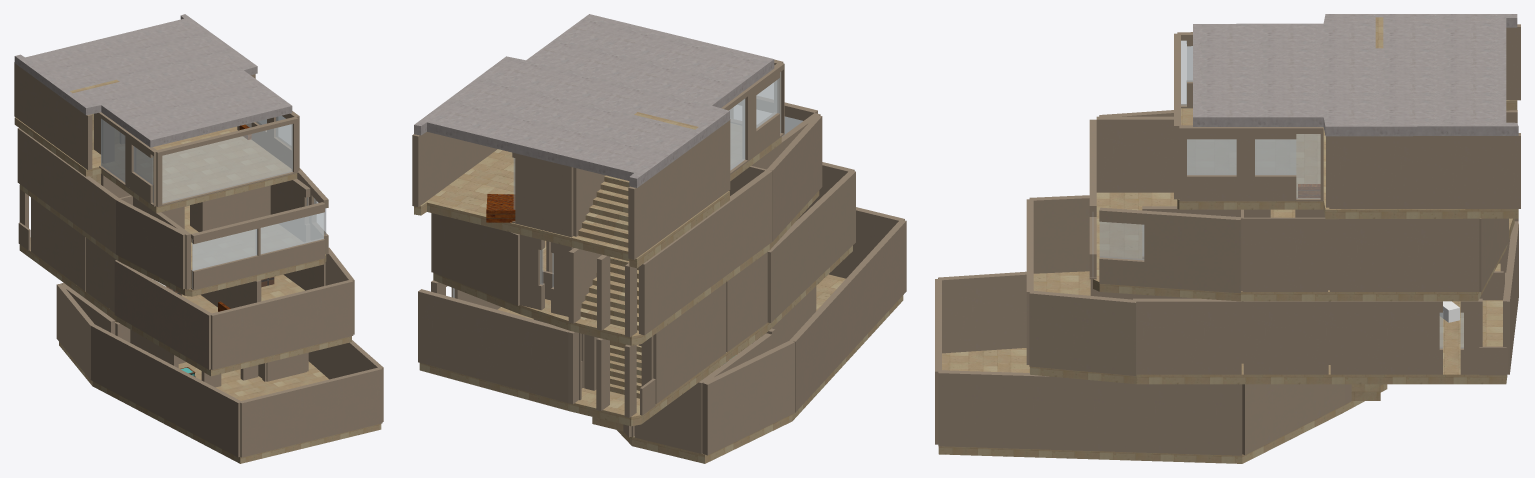
The model's file is villa-bd.glb.
The picture shows the model from 3 angles, left to right: view 1: azimuth 30°, elevation 25°; view 2: azimuth 150°, elevation 25°; view 3: azimuth 270°, elevation 25°; orthographic projection. The views are drawn at different scales.
Visible parts, largest first — view 1: floor_second, floor_stilt, floor_first, floor_upper-ground; view 2: floor_second, floor_upper-ground, floor_first, floor_stilt; view 3: floor_second, floor_upper-ground, floor_first, floor_stilt.
Boxes of the visible parts, bbox=[...] form: floor_second: bbox=[14, 14, 299, 213]; floor_stilt: bbox=[56, 282, 383, 463]; floor_first: bbox=[17, 128, 328, 296]; floor_upper-ground: bbox=[18, 184, 354, 376]; floor_second: bbox=[412, 14, 784, 268]; floor_upper-ground: bbox=[418, 162, 855, 426]; floor_first: bbox=[431, 96, 822, 345]; floor_stilt: bbox=[592, 207, 906, 463]; floor_second: bbox=[1174, 14, 1520, 219]; floor_upper-ground: bbox=[1026, 195, 1518, 384]; floor_first: bbox=[1089, 110, 1517, 301]; floor_stilt: bbox=[935, 271, 1387, 463].
Size of what is drawn, in the model's own units: 10.01 by 12.35 by 19.24.
9 materials, 7 textured.
